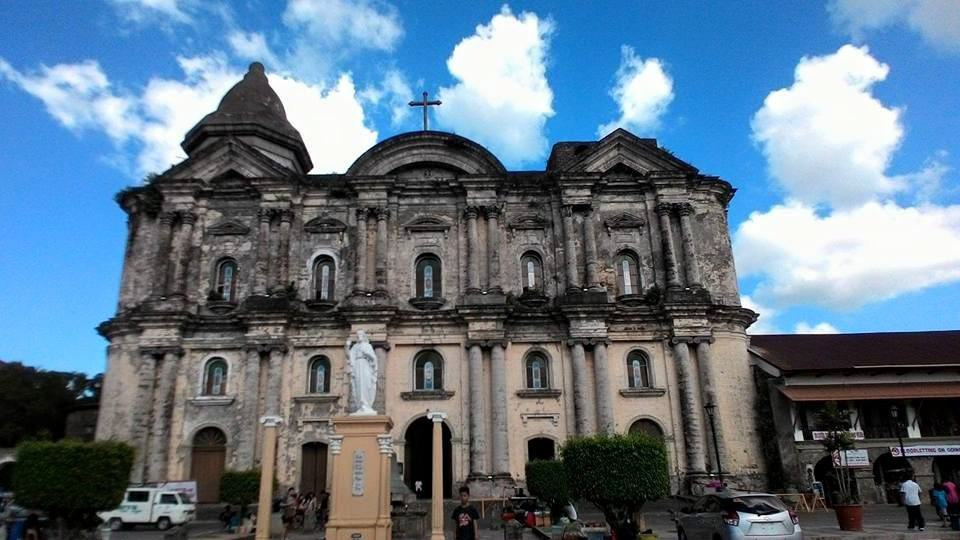taal_basilica_church_taal_batangas: (87, 51, 770, 510)
